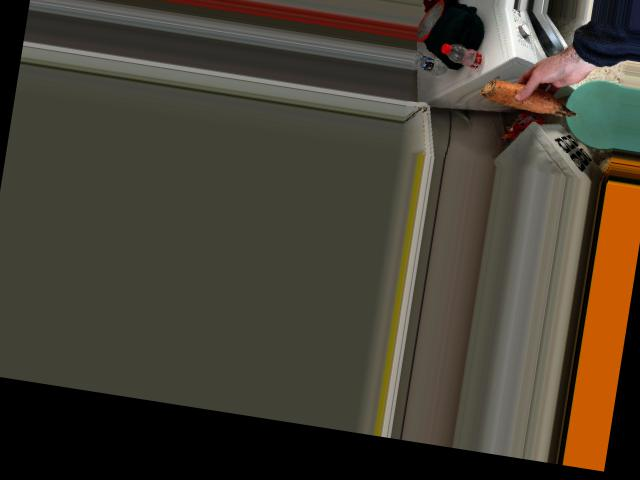sweet_potato: (474, 70, 581, 125)
